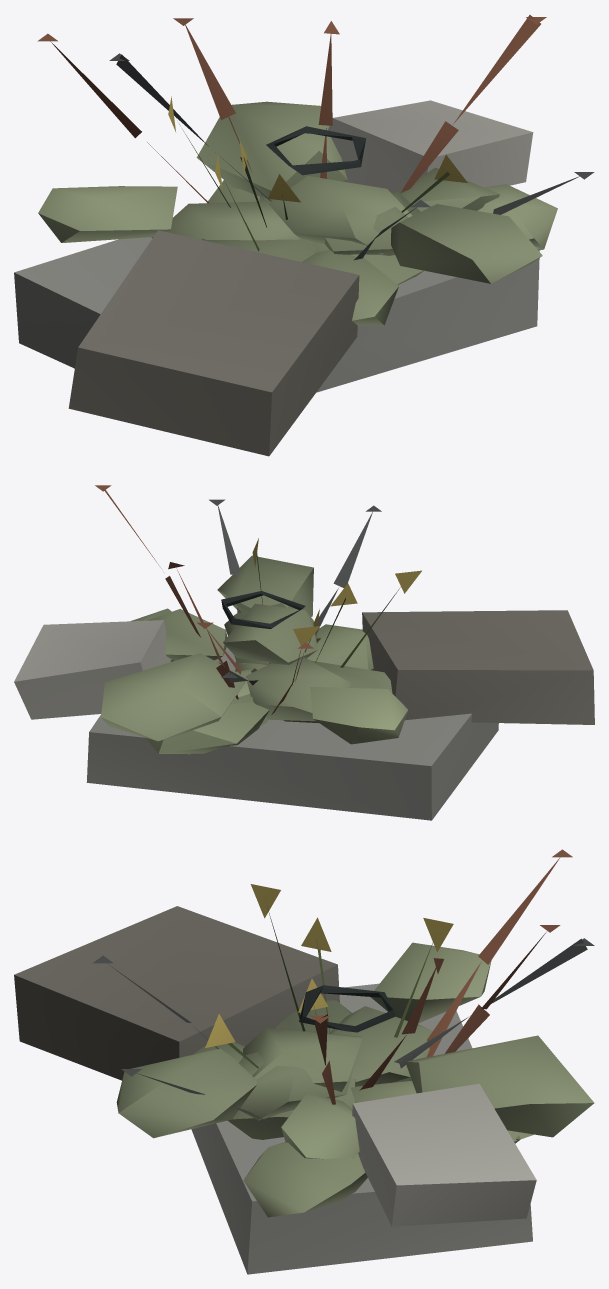
File: rebar_bloom_b_lod2.glb
3 renders of one model, top to bottom at view 1: azimuth 30°, elevation 25°; view 2: azimuth 150°, elevation 25°; view 3: azimuth 270°, elevation 25°, orthographic. The views are drawn at different scales.
Parts seen in each view (by area): view 1: Surface.001; view 2: Surface.001; view 3: Surface.001.
Boxes of the visible parts, x1,y1,x2,y2 form: Surface.001: (14,15,594,456); Surface.001: (14,485,594,820); Surface.001: (14,849,594,1274).
Bounding box in the file's own units: 4.18 × 1.92 × 3.66.
